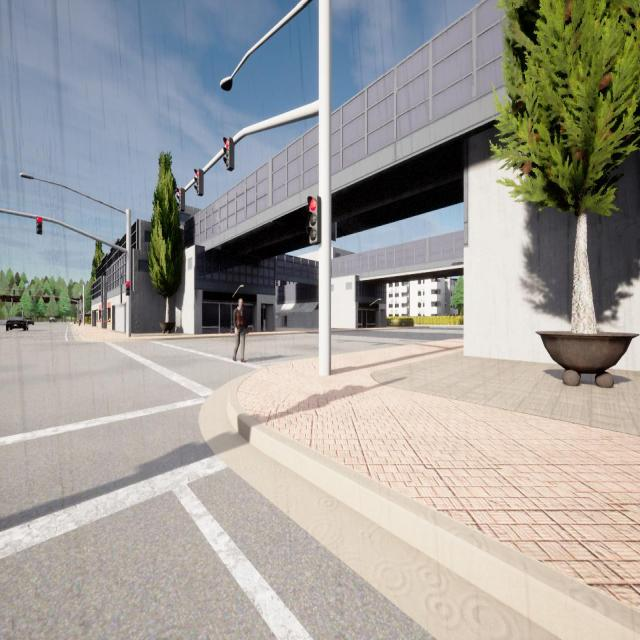Pedestrian: (232, 298, 248, 362), (78, 310, 82, 327)
Vehicle: (6, 315, 28, 331), (27, 317, 34, 325), (49, 317, 56, 323)
traffic_light: (308, 196, 322, 245), (223, 136, 234, 172), (194, 168, 204, 196), (177, 188, 186, 212), (36, 216, 42, 234), (126, 282, 130, 296), (29, 290, 31, 296), (13, 290, 15, 295), (32, 296, 34, 300), (44, 297, 46, 300), (59, 298, 60, 301), (80, 296, 81, 299), (81, 295, 82, 298)
